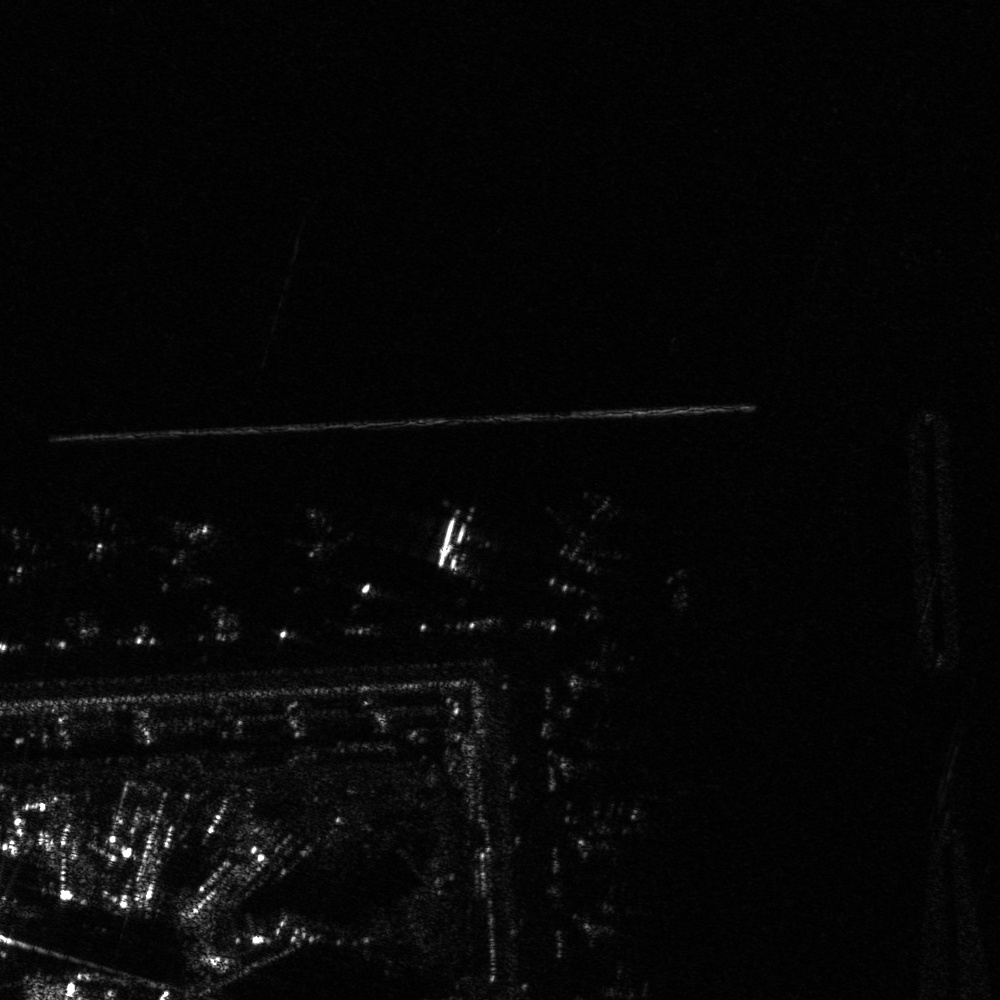A220: (577, 869, 654, 956), (54, 500, 149, 568), (573, 790, 651, 871)
A320/321: (534, 483, 639, 590)
Boeing737: (1, 526, 73, 590)
Boeing787: (407, 499, 492, 591), (274, 497, 368, 560)
other: (135, 513, 223, 604)
